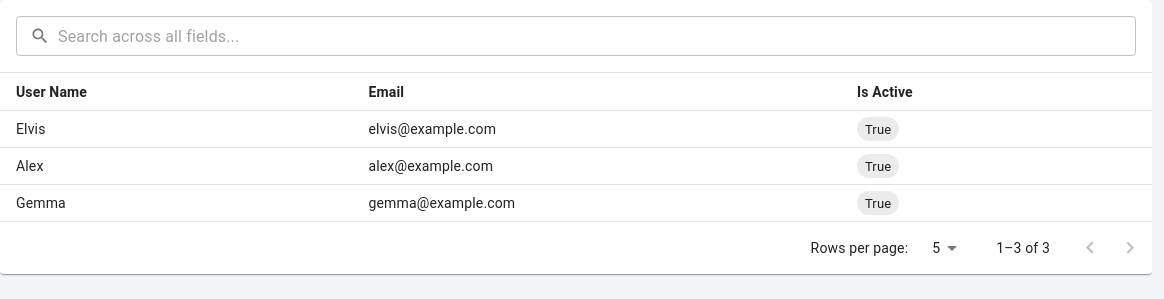
Test: DynamicTable › Basic rendering › displays 'No results found' when search returns empty
In the field with placeholder "Search across all fields...": (597, 36) [58, 16, 1136, 56], type "NONEXISTENT"
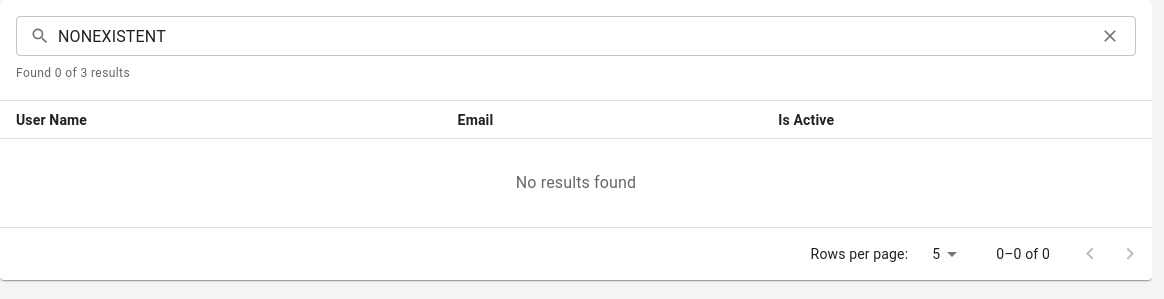
Check: the text "No results found" is shown, box [516, 173, 636, 192]
